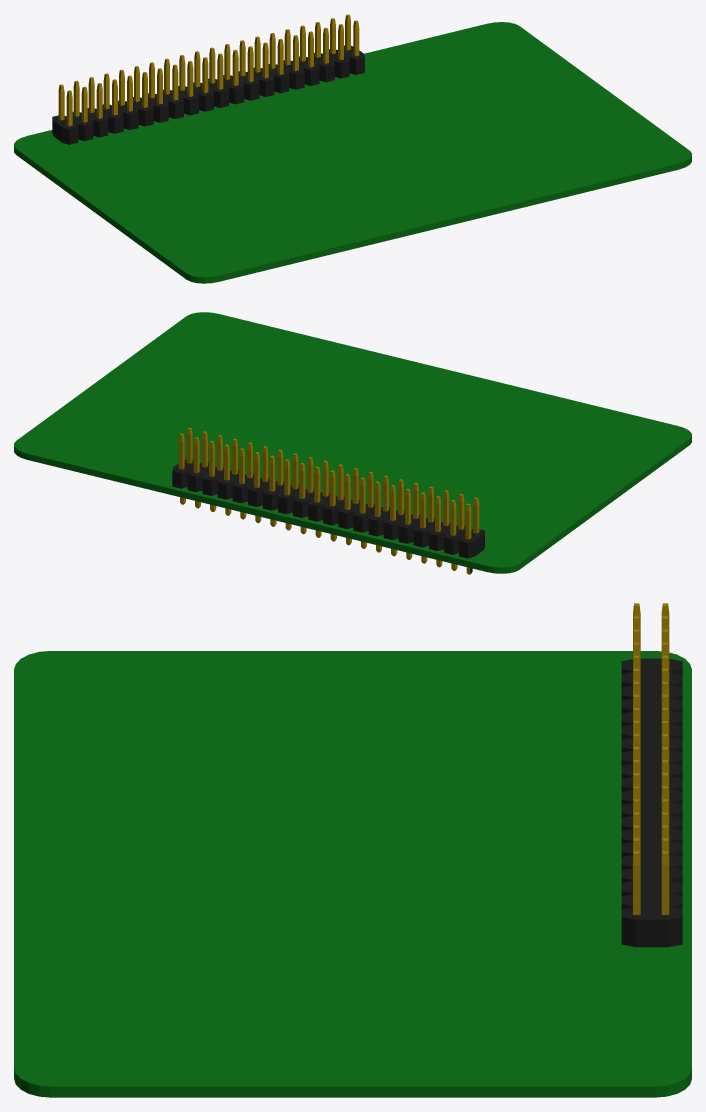
Rendered from raspberry.dae.
3 views of the same model, one above another, from view 1: azimuth 30°, elevation 25°; view 2: azimuth 150°, elevation 25°; view 3: azimuth 270°, elevation 25° (orthographic). The views are drawn at different scales.
Visible parts, largest first — view 1: Plane, SOLID.086; view 2: Plane, SOLID.086; view 3: Plane, SOLID.086.
Boxes of the visible parts, x1,y1,x2,y2 form: Plane: (14, 22, 691, 283); SOLID.086: (52, 45, 364, 144); Plane: (14, 312, 691, 573); SOLID.086: (172, 459, 484, 558); Plane: (14, 651, 691, 1097); SOLID.086: (621, 658, 682, 947).
Bounding box in the file's own units: 0.0848 × 0.0557 × 0.0111.
